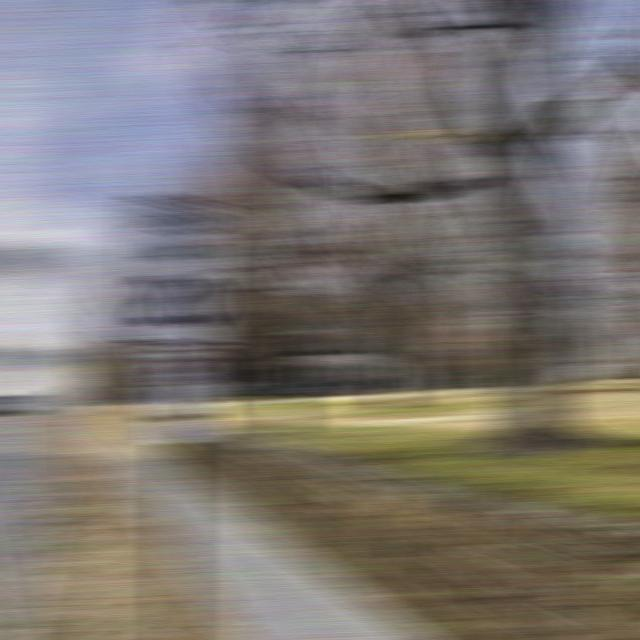speedLimit20: (132, 195, 222, 348)
